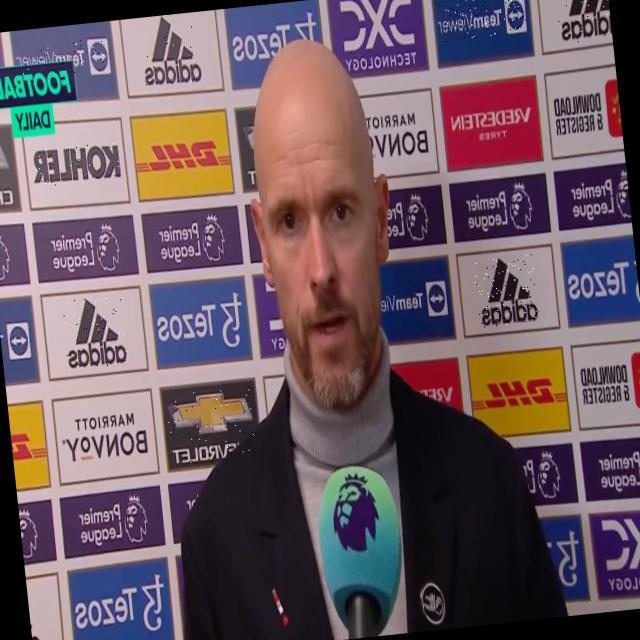Adidas: (61, 294, 129, 371), (138, 11, 203, 89), (471, 254, 539, 328), (553, 0, 612, 43)
Chevrolet: (165, 385, 257, 466)
Kohler: (31, 141, 121, 187)
TeamViewer: (15, 36, 110, 82), (435, 0, 527, 42)
